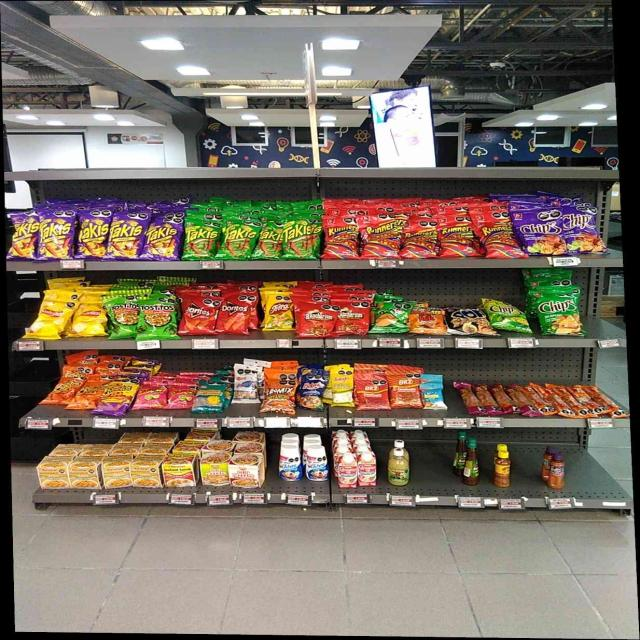bitzAlmendras: (421, 390, 444, 409)
bitzEnchilado90: (357, 374, 387, 409), (391, 373, 418, 408)
bitzEnchilado95: (536, 386, 612, 418)
bitzHabanero: (467, 383, 518, 414)
bokadosCacahuates: (301, 369, 324, 409)
botaneraChilito: (494, 450, 510, 487)
cheetosFlaminHot: (106, 380, 129, 416)
cheetosOriginal: (53, 371, 80, 396), (81, 380, 103, 404)
chipsFuego: (517, 211, 565, 255), (568, 207, 599, 253)
chipsJalapeno: (537, 289, 578, 335)
chipsPapatinas: (488, 298, 528, 333)
churrumais: (138, 381, 164, 409), (168, 382, 192, 408)
delPrimoSalsa: (388, 448, 408, 485)
doritosNacho: (182, 299, 213, 337), (220, 294, 249, 334)
fritosLimon: (263, 292, 290, 331)
hotNutsOriginal: (412, 308, 443, 336)
leoCacahuates: (234, 364, 258, 404)
leoMix: (264, 379, 296, 415)
maruchanPollo: (70, 456, 100, 488), (39, 457, 67, 488), (132, 455, 160, 486), (105, 457, 130, 488)
maruchanRes: (163, 454, 196, 486)
nestleCarnation: (338, 456, 356, 488), (359, 454, 377, 486)
nestleLechera: (279, 444, 301, 481), (306, 446, 328, 481)
nissinCamaron: (200, 453, 228, 485)
nissinRes: (231, 453, 261, 487)
popKarameladas: (447, 307, 484, 336)
rancheritos: (298, 302, 333, 337), (337, 300, 368, 334)
rufflesQueso: (374, 302, 408, 332)
runners: (367, 215, 403, 257), (322, 219, 354, 260), (479, 222, 512, 259), (440, 224, 474, 256), (406, 224, 437, 258)
sabritasOriginal: (34, 300, 68, 340), (73, 303, 100, 336)
salsaBufalo: (464, 439, 481, 485)
semillasCalabaza: (329, 369, 354, 406)
semillasGirasol: (196, 382, 223, 412)
tajinDulce: (548, 453, 564, 490)
takisFuego: (146, 217, 179, 261), (41, 210, 70, 259), (111, 212, 141, 258), (78, 212, 107, 258), (12, 214, 38, 259)
takisOriginal: (185, 218, 218, 260), (222, 222, 256, 258), (286, 220, 316, 259), (260, 223, 283, 260)
tostitos: (140, 299, 175, 340), (107, 299, 137, 339)
